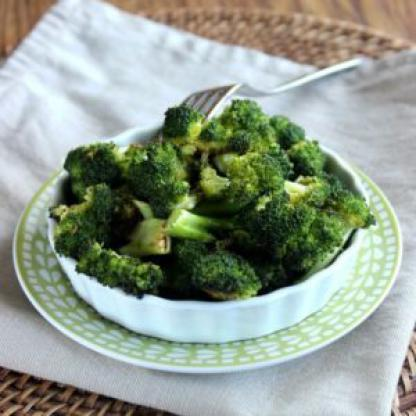broccoli: (49, 97, 382, 302)
